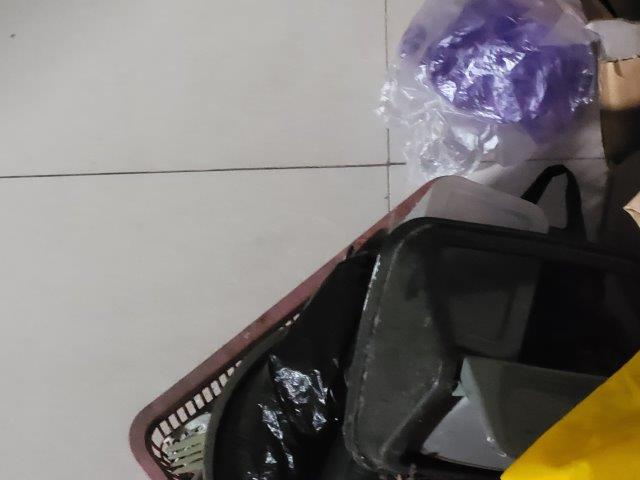plastik: (372, 1, 640, 193)
